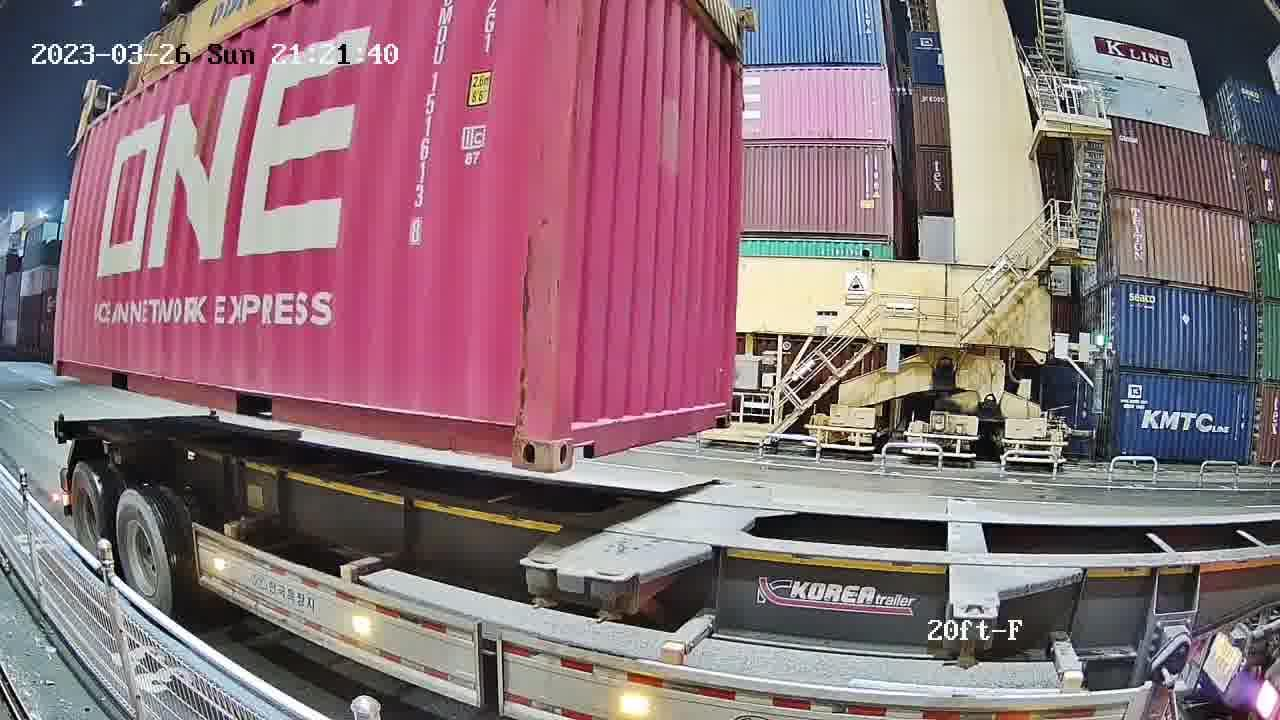Chassis: (523, 480, 732, 563), (592, 482, 769, 579)
Cone: (588, 566, 628, 626), (522, 553, 558, 610)
Hole_L: (548, 403, 605, 472)
Hole_R: (487, 406, 549, 472), (705, 394, 732, 428)
Tire: (111, 490, 170, 617), (70, 466, 110, 571)
